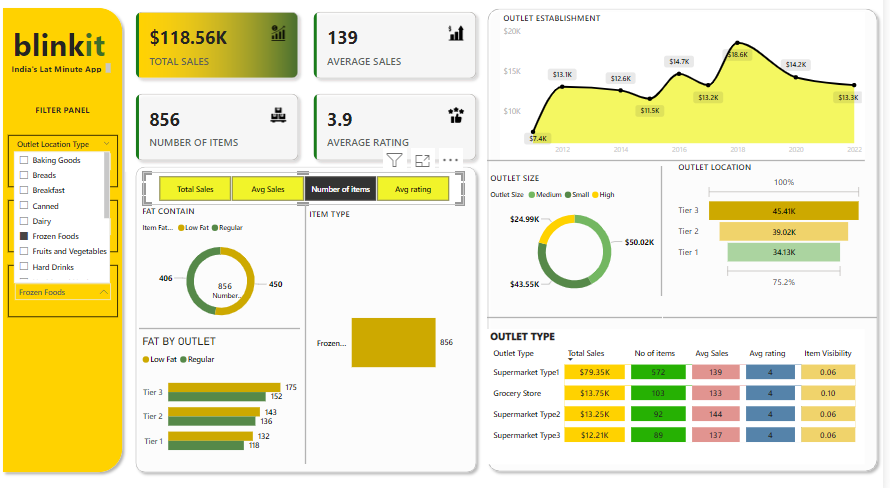

Layout of this report page (visuals, bound fields, positions):
{"tool":"powerbi","page":{"name":"Page 1","canvas":[1400,800],"ordinal":0},"visuals":[{"type":"shape","box":[4.7,26.8,206.3,749.6],"z":0},{"type":"textbox","box":[420.5,102.4,204.7,80.3],"z":1000},{"type":"textbox","box":[253.5,645.7,204.7,130.7],"z":2000},{"type":"textbox","box":[420.5,489.8,204.7,155.9],"z":3000},{"type":"textbox","box":[15.7,55.1,173.2,75.6],"z":4000},{"type":"textbox","box":[15.7,118.1,173.2,25.2],"z":5000},{"type":"cardVisual","fields":{"Data":["BlinkIT Grocery Data.Total Sales","BlinkIT Grocery Data.Avg Sales","BlinkIT Grocery Data.Number of items","BlinkIT Grocery Data.Avg rating"]},"box":[206.3,25.2,570.1,269.3],"z":6000},{"type":"shape","box":[214.2,277.2,554.3,499.2],"z":7000},{"type":"donutChart","title":"FAT CONTAIN","fields":{"Y":["BlinkIT Grocery Data.Number of items"],"Category":["BlinkIT Grocery Data.Item Fat Content"]},"box":[228.3,346.5,256.7,195.3],"z":8000},{"type":"slicer","fields":{"Values":["Metrix.Metrix"]},"box":[234.6,294.5,505.5,52],"z":9000},{"type":"cardVisual","fields":{"Data":["BlinkIT Grocery Data.Number of items"]},"box":[321.3,447.2,85,53.5],"z":10000},{"type":"clusteredBarChart","title":"FAT BY OUTLET","fields":{"Y":["BlinkIT Grocery Data.Number of items"],"Category":["BlinkIT Grocery Data.Outlet Location Type"],"Series":["BlinkIT Grocery Data.Item Fat Content"]},"box":[228.3,551.2,253.5,203.1],"z":11000},{"type":"shape","box":[228.3,518.1,253.5,45.7],"z":12000},{"type":"shape","box":[363.8,346.5,253.5,407.9],"z":13000},{"type":"barChart","title":"ITEM TYPE","fields":{"Y":["BlinkIT Grocery Data.Number of items"],"Category":["BlinkIT Grocery Data.Item Type"]},"box":[491.3,351.2,236.2,403.1],"z":14000},{"type":"shape","box":[768.5,28.3,631.5,746.5],"z":15000},{"type":"lineChart","title":"OUTLET ESTABLISHMENT","fields":{"Y":["BlinkIT Grocery Data.Total Sales"],"Category":["BlinkIT Grocery Data.Outlet Establishment Year"]},"box":[796.9,42.5,574.8,234.6],"z":16000},{"type":"shape","box":[776.4,253.5,595.3,45.7],"z":17000},{"type":"donutChart","title":"OUTLET SIZE","fields":{"Y":["BlinkIT Grocery Data.Total Sales"],"Category":["BlinkIT Grocery Data.Outlet Size"]},"box":[776.4,294.5,275.6,206.3],"z":18000},{"type":"shape","box":[924.4,285,253.5,204.7],"z":19000},{"type":"funnel","title":"OUTLET LOCATION","fields":{"Category":["BlinkIT Grocery Data.Outlet Location Type"],"Y":["Sum(BlinkIT Grocery Data.Sales)"]},"box":[1072.4,277.2,299.2,204.7],"z":20000},{"type":"shape","box":[776.4,500.8,275.6,45.7],"z":21000},{"type":"shape","box":[1053.5,503.9,337,45.7],"z":22000},{"type":"pivotTable","title":"OUTLET TYPE","fields":{"Rows":["BlinkIT Grocery Data.Outlet Type"],"Values":["BlinkIT Grocery Data.Total Sales","BlinkIT Grocery Data.Number of items","BlinkIT Grocery Data.Avg Sales","BlinkIT Grocery Data.Avg rating","Avg(BlinkIT Grocery Data.Item Visibility)"]},"box":[776.4,541.7,595.3,212.6],"z":23000},{"type":"slicer","fields":{"Values":["BlinkIT Grocery Data.Outlet Location Type"]},"box":[22,236.2,173.2,81.9],"z":24000},{"type":"slicer","fields":{"Values":["BlinkIT Grocery Data.Item Type"]},"box":[22,440.9,173.2,81.9],"z":25000},{"type":"slicer","fields":{"Values":["BlinkIT Grocery Data.Outlet Size"]},"box":[22,338.6,173.2,81.9],"z":26000},{"type":"textbox","box":[15.7,182.7,184.3,48.8],"z":26001}]}

Visuals, with their boxes on the page's 1400x800 design canvas (x1, y1, x2, y2). These are canvas units, not pixel positions in the 890x488 screenshot, which may show the page scaled, cropped or inside an application window:
shape: <bbox>5, 27, 211, 776</bbox>
textbox: <bbox>420, 102, 625, 183</bbox>
textbox: <bbox>254, 646, 458, 776</bbox>
textbox: <bbox>420, 490, 625, 646</bbox>
textbox: <bbox>16, 55, 189, 131</bbox>
textbox: <bbox>16, 118, 189, 143</bbox>
cardVisual - BlinkIT Grocery Data.Total Sales x BlinkIT Grocery Data.Avg Sales: <bbox>206, 25, 776, 294</bbox>
shape: <bbox>214, 277, 768, 776</bbox>
"FAT CONTAIN" donutChart: <bbox>228, 346, 485, 542</bbox>
slicer - Metrix.Metrix: <bbox>235, 294, 740, 346</bbox>
cardVisual - BlinkIT Grocery Data.Number of items: <bbox>321, 447, 406, 501</bbox>
"FAT BY OUTLET" clusteredBarChart: <bbox>228, 551, 482, 754</bbox>
shape: <bbox>228, 518, 482, 564</bbox>
shape: <bbox>364, 346, 617, 754</bbox>
"ITEM TYPE" barChart: <bbox>491, 351, 728, 754</bbox>
shape: <bbox>768, 28, 1400, 775</bbox>
"OUTLET ESTABLISHMENT" lineChart: <bbox>797, 42, 1372, 277</bbox>
shape: <bbox>776, 254, 1372, 299</bbox>
"OUTLET SIZE" donutChart: <bbox>776, 294, 1052, 501</bbox>
shape: <bbox>924, 285, 1178, 490</bbox>
"OUTLET LOCATION" funnel: <bbox>1072, 277, 1372, 482</bbox>
shape: <bbox>776, 501, 1052, 546</bbox>
shape: <bbox>1054, 504, 1390, 550</bbox>
"OUTLET TYPE" pivotTable: <bbox>776, 542, 1372, 754</bbox>
slicer - BlinkIT Grocery Data.Outlet Location Type: <bbox>22, 236, 195, 318</bbox>
slicer - BlinkIT Grocery Data.Item Type: <bbox>22, 441, 195, 523</bbox>
slicer - BlinkIT Grocery Data.Outlet Size: <bbox>22, 339, 195, 420</bbox>
textbox: <bbox>16, 183, 200, 232</bbox>
